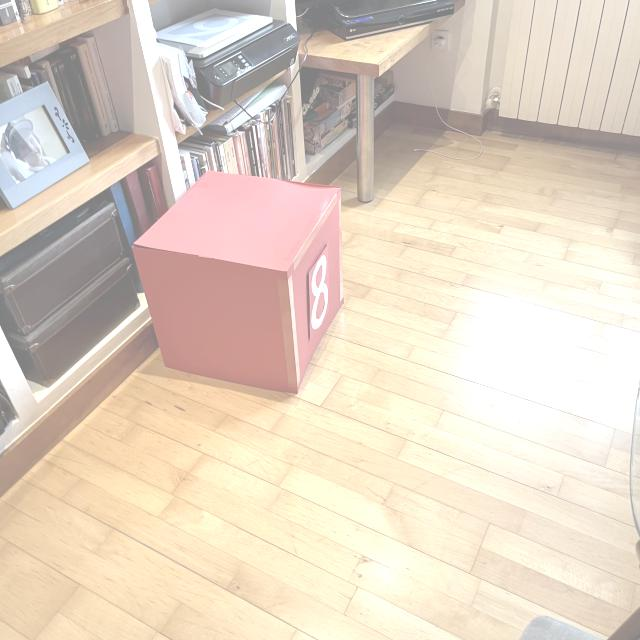box: (130, 168, 348, 396)
